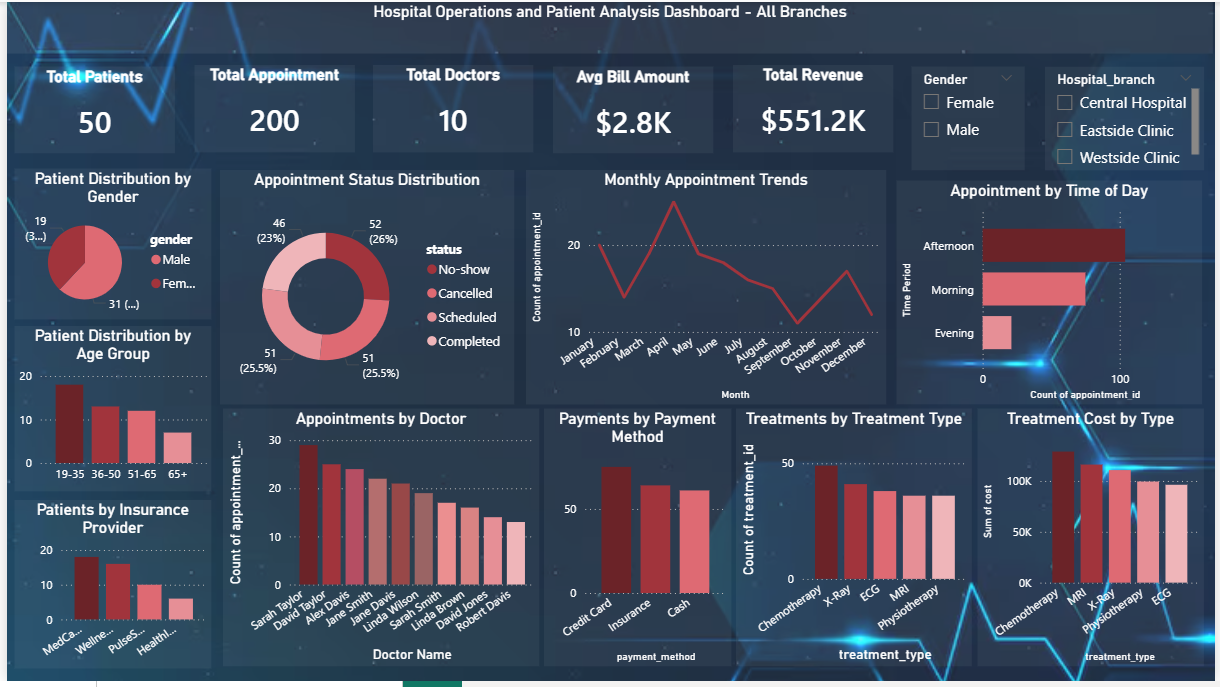

Layout of this report page (visuals, bound fields, positions):
{"tool":"powerbi","page":{"name":"Page 1","canvas":[1280,720],"ordinal":0},"visuals":[{"type":"cardVisual","title":"Avg Bill Amount","fields":{"Data":["billing.Avg Bill Amount"]},"box":[579.2,68.3,170,91.7],"z":0},{"type":"cardVisual","title":"Total Appointment","fields":{"Data":["appointments.Total Appointments"]},"box":[198.6,67.5,170,92.5],"z":1000},{"type":"cardVisual","title":"Total Doctors","fields":{"Data":["doctors.Total Doctor"]},"box":[388.9,67.5,170,92.5],"z":2000},{"type":"cardVisual","title":"Total Patients","fields":{"Data":["patients.Total Patient"]},"box":[8.3,68.3,170,91.7],"z":3000},{"type":"cardVisual","title":"Total Revenue","fields":{"Data":["billing.Total Rvenue"]},"box":[769.4,67.5,170,92.5],"z":4000},{"type":"textbox","box":[0,0,1279.4,60.5],"z":5000},{"type":"pieChart","title":"Patient Distribution by Gender","fields":{"Category":["patients.gender"],"Y":["patients.Total Patient"]},"box":[7.5,176.2,208.8,160],"z":6000},{"type":"clusteredColumnChart","title":"Patient Distribution by Age Group","fields":{"Category":["patients.Age Group"],"Y":["patients.Total Patient"]},"box":[7.5,343.8,208.8,175],"z":7000},{"type":"columnChart","title":"Patients by Insurance Provider","fields":{"Category":["patients.insurance_provider"],"Y":["patients.Total Patient"]},"box":[8.3,528.3,208.3,178.3],"z":8000},{"type":"donutChart","title":"Appointment Status Distribution","fields":{"Category":["appointments.status"],"Y":["appointments.Total Appointments"]},"box":[226.1,177.8,311.7,248.3],"z":9000},{"type":"lineChart","title":"Monthly Appointment Trends","fields":{"Y":["CountNonNull(appointments.appointment_id)"],"Category":["Calendar.Date.Variation.Date Hierarchy.Month"]},"box":[550.1,178.3,381.7,248.3],"z":10000},{"type":"clusteredColumnChart","title":"Appointments by Doctor","fields":{"Category":["doctors.Doctor Name"],"Y":["CountNonNull(appointments.appointment_id)"]},"box":[228.3,431.7,335,273.3],"z":12000},{"type":"clusteredColumnChart","title":"Treatments by Treatment Type","fields":{"Category":["treatments.treatment_type"],"Y":["CountNonNull(treatments.treatment_id)"]},"box":[772.8,431.7,250,273.3],"z":13000},{"type":"clusteredColumnChart","title":"Payments by Payment Method","fields":{"Category":["billing.payment_method"],"Y":["CountNonNull(billing.bill_id)"]},"box":[568.9,431.7,198.3,273.3],"z":14000},{"type":"clusteredColumnChart","title":"Treatment Cost by Type","fields":{"Category":["treatments.treatment_type"],"Y":["Sum(treatments.cost)"]},"box":[1028.3,431.7,240,273.3],"z":15000},{"type":"slicer","fields":{"Values":["patients.gender"]},"box":[959.7,68.3,120,110],"z":16000},{"type":"slicer","fields":{"Values":["doctors.hospital_branch"]},"box":[1100,68.3,168.3,110],"z":17000},{"type":"clusteredBarChart","title":"Appointment by Time of Day","fields":{"Category":["appointments.Time Period"],"Y":["CountNonNull(appointments.appointment_id)"]},"box":[944,189,324,237],"z":17001}]}

Visuals, with their boxes in screenshot pixels (x1, y1, x2, y2), scaled from the page's 1280x720 canvas onto the 1220x687 screenshot:
"Avg Bill Amount" cardVisual: 552 65 714 153
"Total Appointment" cardVisual: 189 64 351 153
"Total Doctors" cardVisual: 371 64 533 153
"Total Patients" cardVisual: 8 65 170 153
"Total Revenue" cardVisual: 733 64 895 153
textbox: 0 0 1219 58
"Patient Distribution by Gender" pieChart: 7 168 206 321
"Patient Distribution by Age Group" clusteredColumnChart: 7 328 206 495
"Patients by Insurance Provider" columnChart: 8 504 206 674
"Appointment Status Distribution" donutChart: 216 170 513 407
"Monthly Appointment Trends" lineChart: 524 170 888 407
"Appointments by Doctor" clusteredColumnChart: 218 412 537 673
"Treatments by Treatment Type" clusteredColumnChart: 737 412 975 673
"Payments by Payment Method" clusteredColumnChart: 542 412 731 673
"Treatment Cost by Type" clusteredColumnChart: 980 412 1209 673
slicer - patients.gender: 915 65 1029 170
slicer - doctors.hospital_branch: 1048 65 1209 170
"Appointment by Time of Day" clusteredBarChart: 900 180 1209 406
